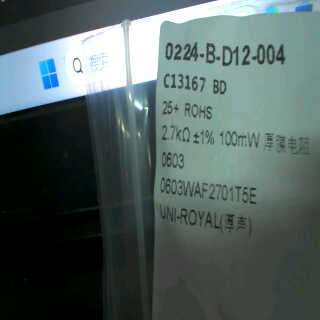2.7kR: (159, 122, 193, 147)
